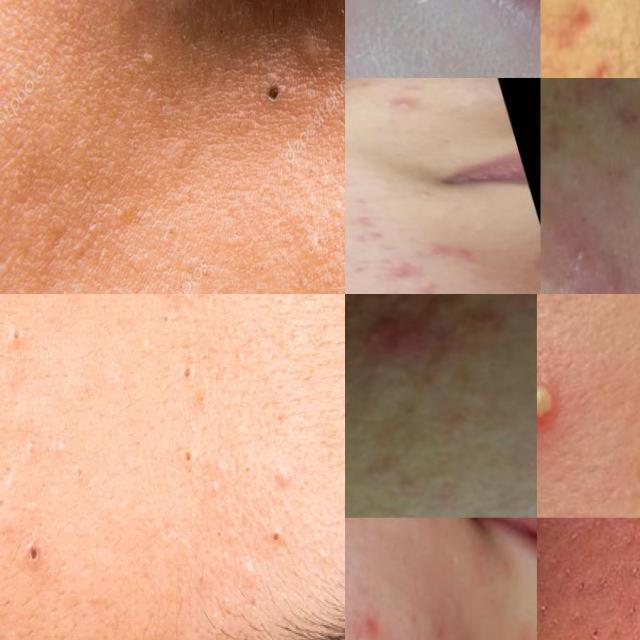acne_scars: (560, 78, 626, 108)
comedone: (252, 71, 290, 126), (20, 535, 46, 564), (580, 59, 610, 78), (72, 634, 84, 640)
papule: (354, 302, 422, 357), (546, 0, 602, 37), (424, 237, 486, 266), (376, 90, 430, 119), (346, 213, 392, 244), (597, 261, 635, 294), (377, 260, 422, 282), (568, 234, 594, 272), (408, 279, 452, 294)
pustule: (537, 348, 585, 454)
